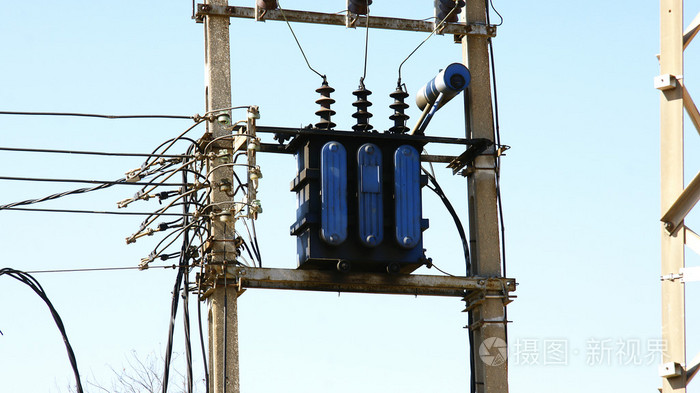insulator: (388, 88, 412, 134), (315, 84, 336, 130), (352, 89, 373, 130)
